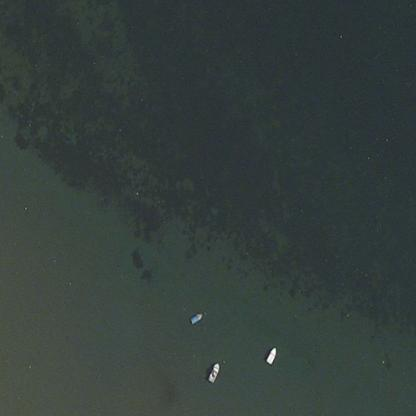ship: (201, 356, 226, 386), (260, 343, 280, 367), (186, 309, 206, 327)
